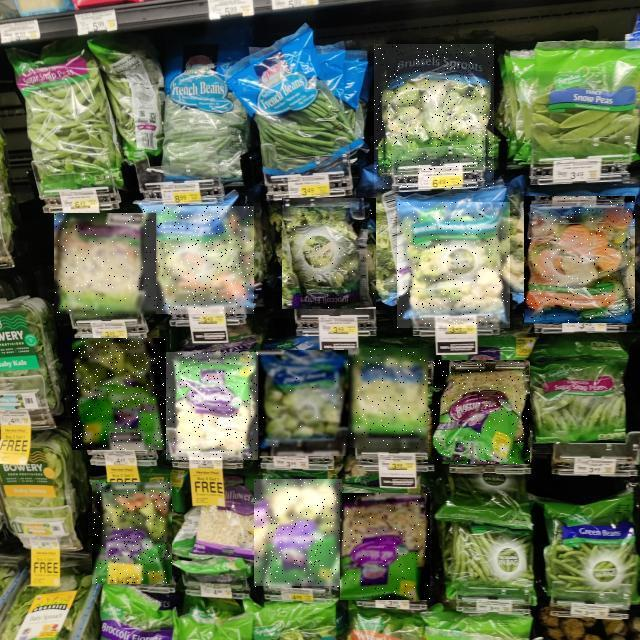Broccoli: (397, 203, 510, 329), (72, 338, 166, 450), (282, 198, 376, 309), (92, 482, 172, 584)
Brussel Sprouts: (374, 44, 494, 189), (256, 350, 348, 456), (345, 349, 435, 449)
Cauliflower: (167, 352, 259, 460), (254, 480, 342, 588)
Lettuce: (524, 196, 635, 323), (143, 206, 254, 314), (429, 360, 531, 464), (54, 214, 156, 316), (340, 493, 430, 600)
